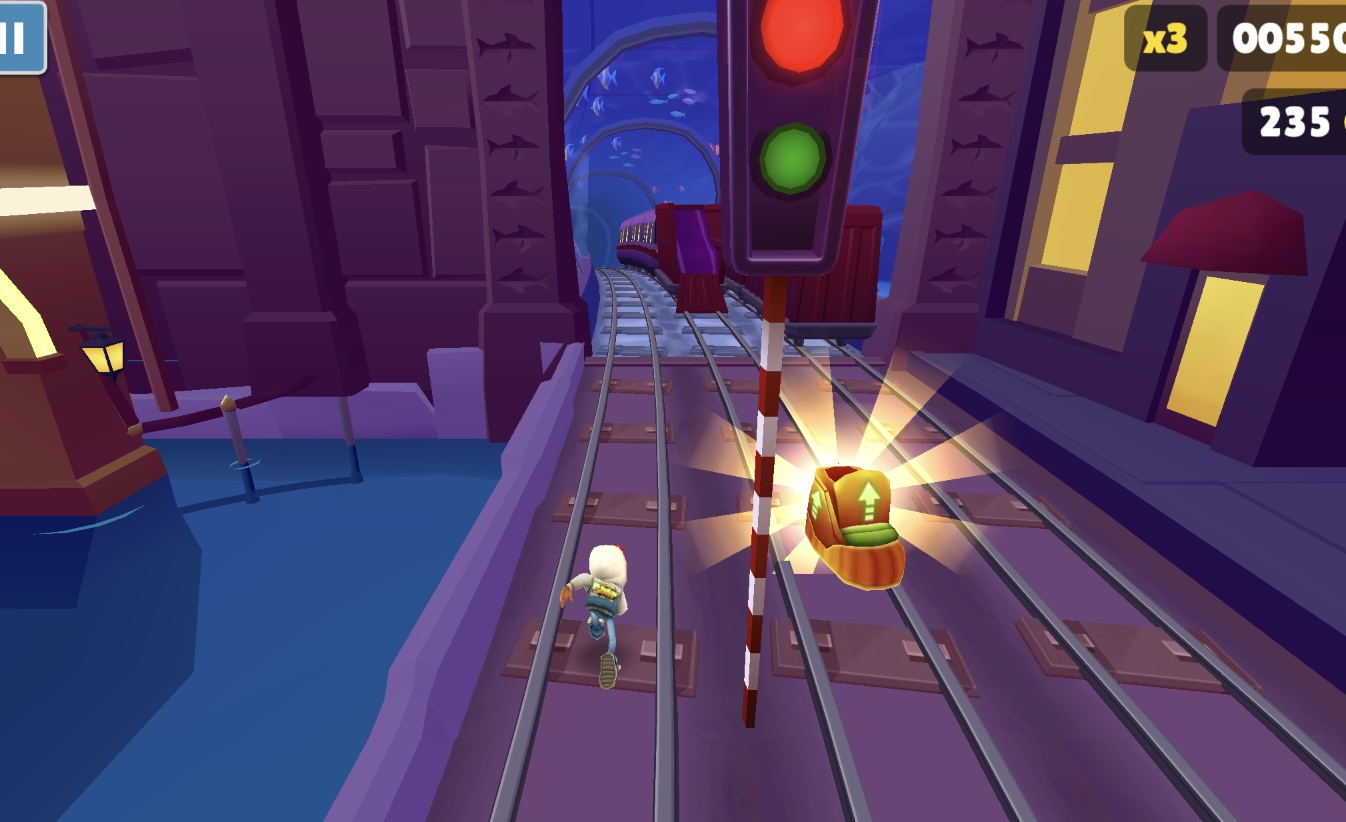train: (716, 204, 883, 343), (653, 203, 729, 315), (616, 211, 659, 271)
